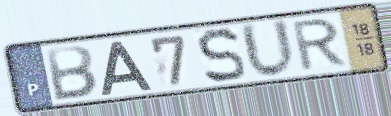7: (147, 32, 188, 88)
A: (99, 39, 155, 97)
B: (44, 43, 100, 102)
R: (291, 15, 351, 74)
S: (194, 26, 248, 86)
U: (237, 17, 299, 81)
